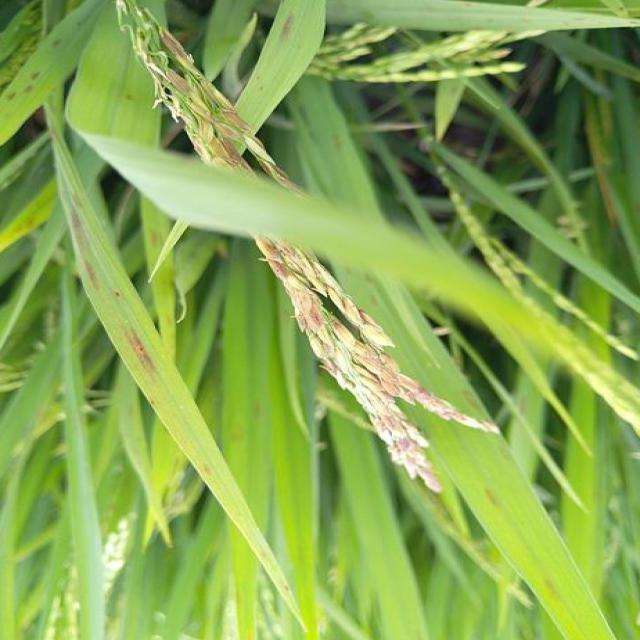Leaf Streak: (66, 199, 104, 316), (121, 323, 166, 407)
Panicle Blight: (254, 233, 497, 488), (122, 19, 301, 193)
